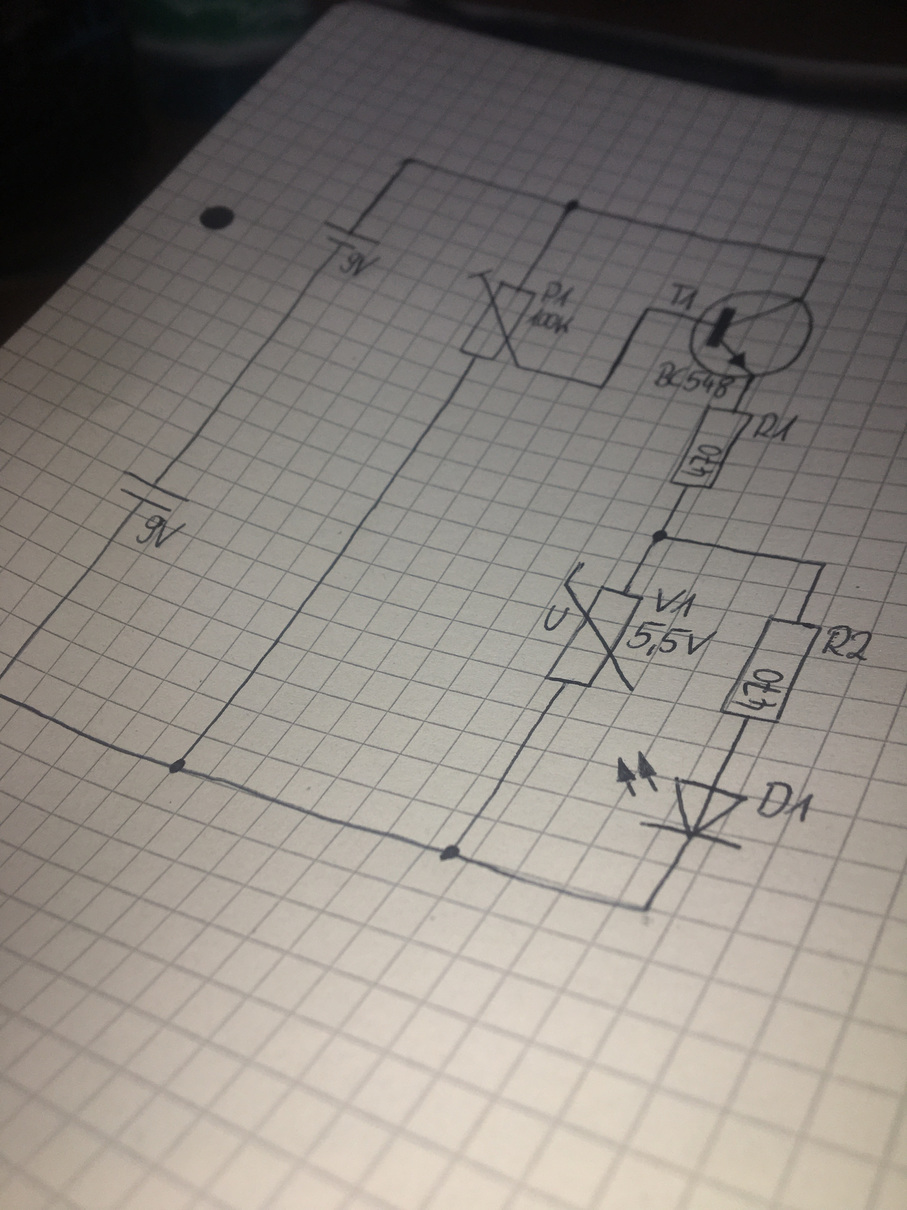diode.light_emitting: (615, 749, 750, 853)
junction: (436, 842, 463, 863), (560, 195, 583, 216), (648, 527, 670, 546), (398, 152, 421, 169), (168, 757, 187, 775), (636, 899, 655, 916), (639, 303, 657, 318), (1, 664, 7, 706), (813, 252, 829, 265), (816, 558, 831, 571), (593, 381, 609, 393)
resistor: (718, 613, 824, 727), (668, 403, 755, 492)
resistor.adjustable: (457, 268, 537, 368)
text: (626, 619, 718, 658), (653, 360, 735, 400), (753, 778, 816, 825), (732, 666, 787, 713), (821, 623, 873, 664), (133, 513, 188, 550), (653, 584, 698, 620), (680, 442, 723, 479), (752, 410, 800, 443), (527, 307, 576, 336), (339, 250, 380, 278), (539, 279, 574, 310), (668, 281, 698, 311), (542, 603, 571, 633)
transistor: (688, 287, 816, 380)
varistor: (542, 560, 645, 693)
voltage.dc: (117, 466, 191, 513), (319, 219, 382, 250)
